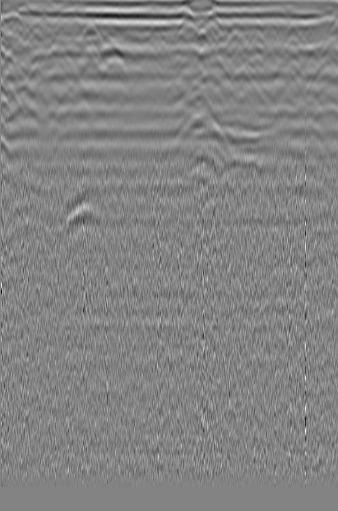상수: (276, 25, 308, 52)
오수: (1, 20, 40, 57)
우수: (137, 22, 171, 47)
